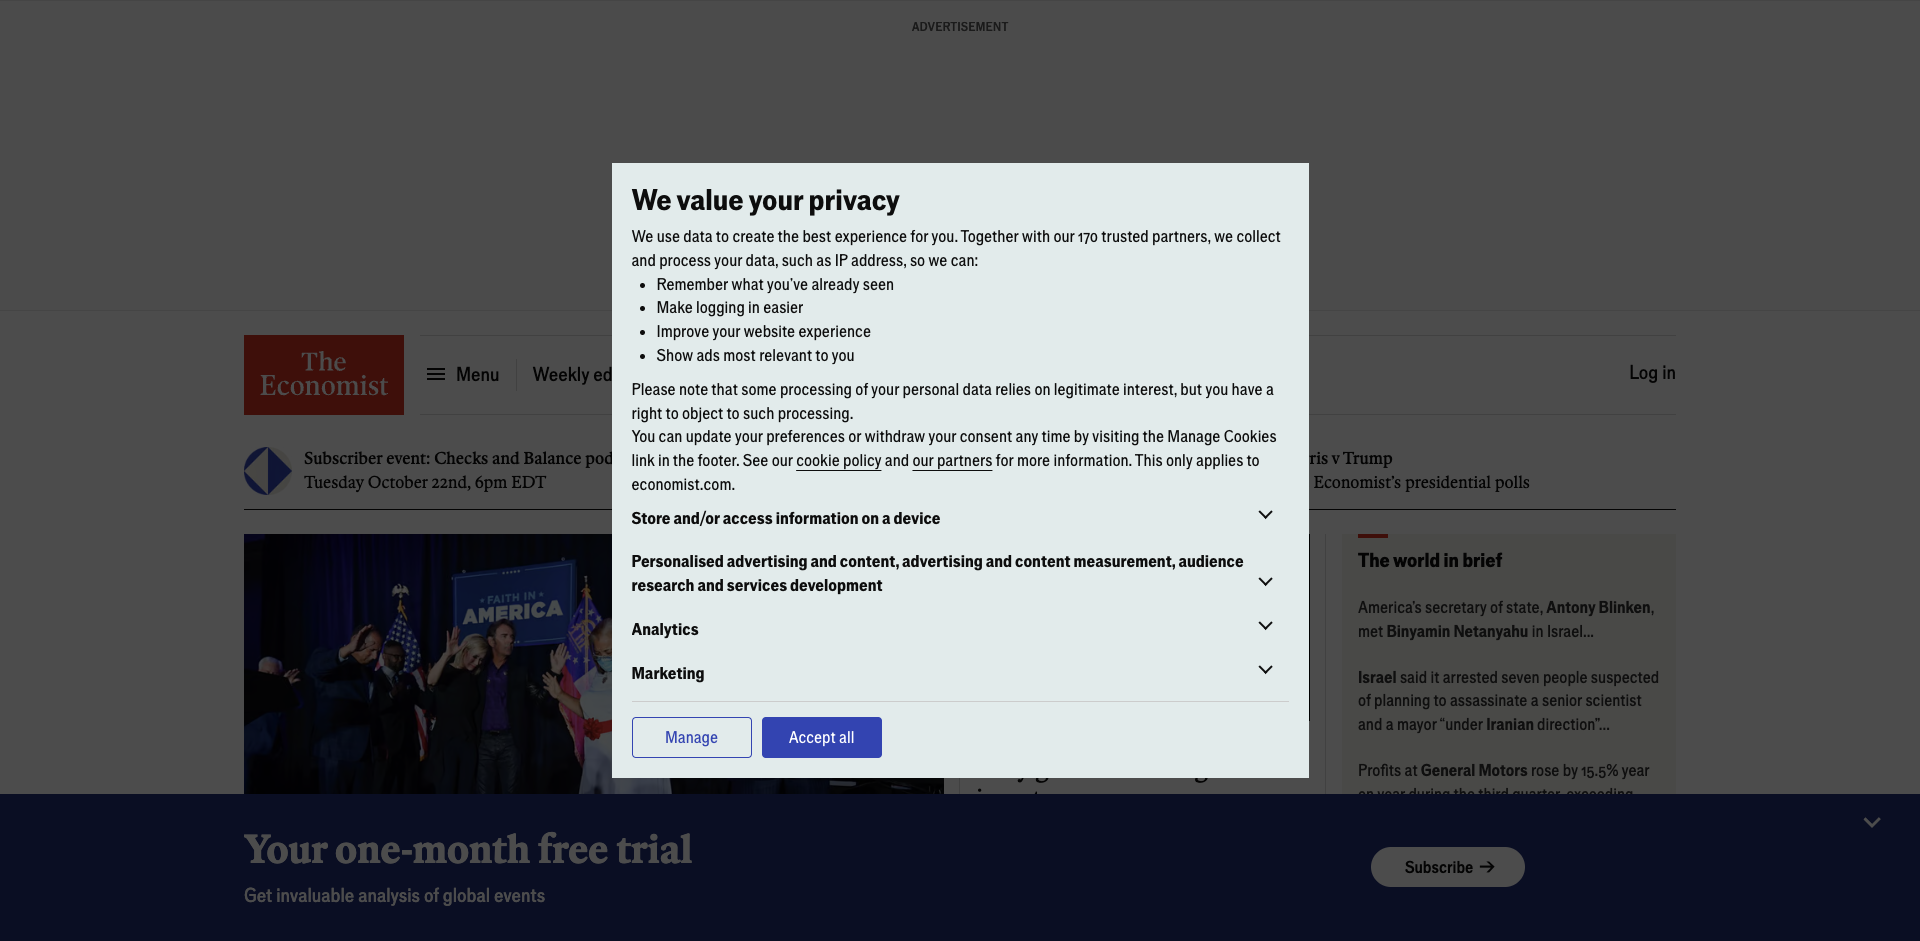button: (204, 365, 245, 406), (1856, 806, 1888, 838)
input: (171, 365, 204, 406)
label: (108, 374, 156, 398)
link: (976, 752, 1310, 814), (244, 334, 404, 415), (304, 447, 699, 470), (792, 447, 1188, 470), (1281, 447, 1676, 470), (1371, 848, 1526, 887), (192, 455, 245, 518), (680, 363, 813, 387), (846, 360, 959, 388), (533, 363, 647, 387), (424, 360, 500, 388), (976, 937, 1310, 941), (1630, 361, 1676, 386)
